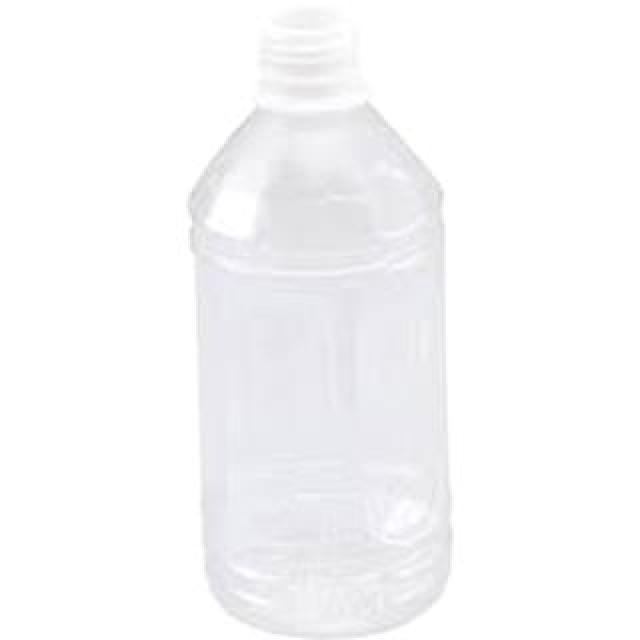Pet_Bottle: (189, 64, 461, 640)
